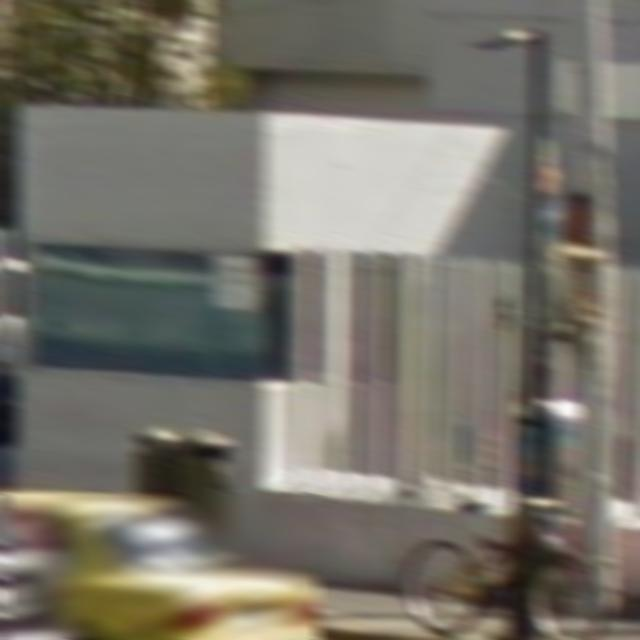Taxi: (4, 494, 320, 639)
